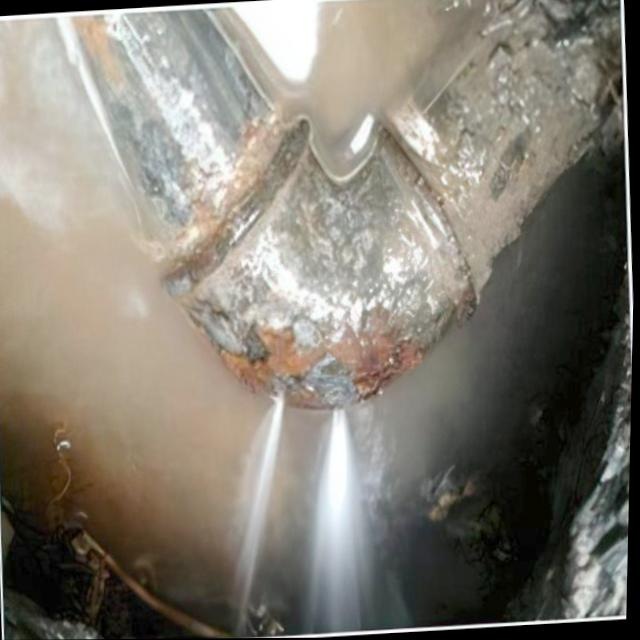leak: (185, 396, 433, 639)
